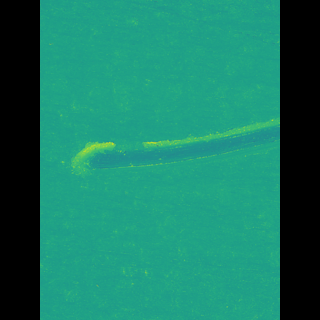Loch: (89, 112, 250, 180)
